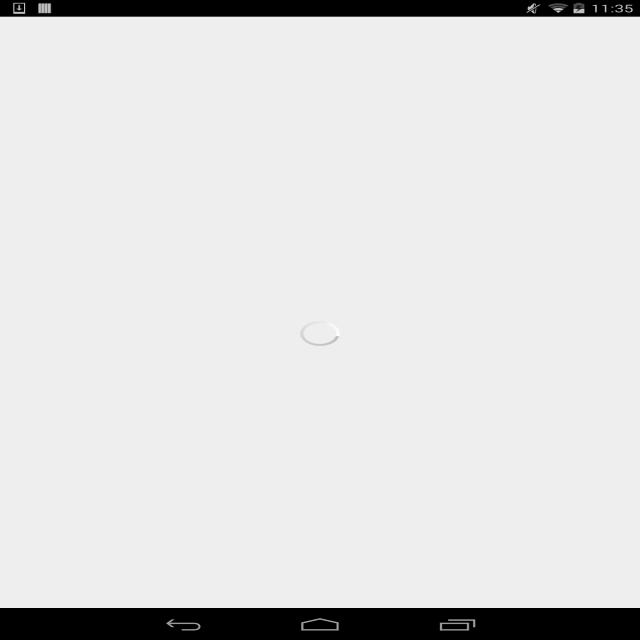Button: (26, 393, 312, 417), (328, 393, 614, 417), (222, 444, 316, 510), (324, 444, 418, 510), (426, 444, 520, 510)
ImageButton: (0, 17, 60, 59)
ImageView: (0, 59, 640, 254), (26, 270, 196, 377), (296, 607, 441, 640), (0, 607, 144, 640), (148, 607, 292, 640), (445, 607, 589, 640), (332, 445, 411, 494), (434, 445, 513, 494), (60, 30, 224, 46), (593, 607, 640, 640), (597, 22, 640, 54), (222, 334, 239, 345), (281, 503, 290, 508)
TextView: (0, 529, 640, 576), (222, 270, 614, 317), (0, 576, 640, 594), (546, 22, 597, 54), (324, 494, 418, 511), (426, 494, 520, 511), (120, 494, 213, 511), (245, 333, 316, 347), (144, 459, 188, 478), (250, 454, 288, 476), (222, 317, 277, 331), (133, 482, 200, 491), (247, 494, 278, 511)
